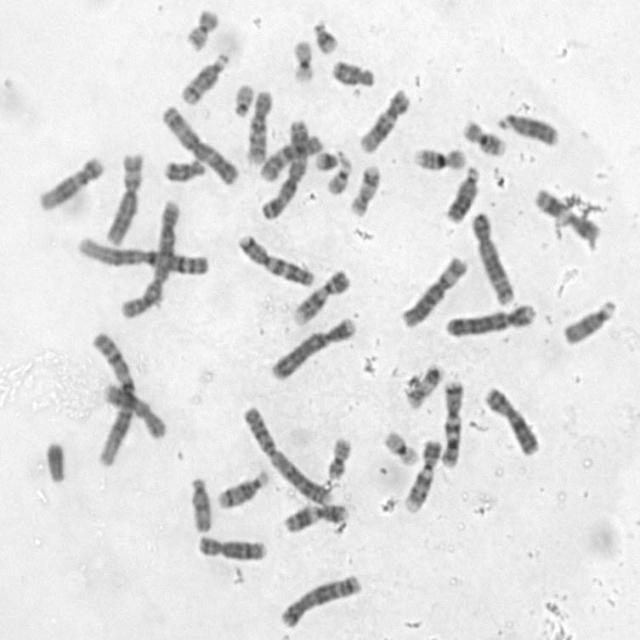A1: (89, 326, 140, 471), (73, 231, 213, 277)
A2: (239, 401, 335, 506), (115, 196, 182, 319)
A3: (158, 100, 242, 186), (258, 114, 314, 222)
B4: (266, 311, 359, 382), (441, 298, 539, 339)
B5: (276, 568, 365, 630), (468, 206, 518, 306)
C10: (255, 129, 325, 184), (242, 84, 276, 166)
C11: (530, 182, 602, 245), (280, 498, 350, 535)
C12: (33, 150, 106, 212), (356, 83, 412, 154)
C6: (397, 250, 470, 328), (102, 146, 147, 246)
C7: (234, 228, 318, 288), (437, 375, 466, 469)
C8: (105, 387, 168, 445), (194, 531, 269, 562)
C9: (290, 264, 352, 326), (400, 435, 444, 514)
D13: (494, 106, 562, 148), (442, 160, 481, 224)
D14: (176, 47, 231, 106), (214, 465, 271, 510)
D15: (559, 294, 619, 346), (186, 471, 215, 534)
E16: (459, 114, 508, 157), (410, 142, 468, 172)
E17: (402, 359, 445, 411), (345, 160, 382, 218)
E18: (328, 55, 378, 88), (160, 153, 207, 184)
F19: (379, 426, 422, 467), (288, 34, 317, 84)
F20: (182, 3, 221, 52), (323, 432, 354, 480)
G21: (309, 15, 341, 56), (311, 144, 342, 172)
G22: (323, 151, 354, 196), (230, 78, 256, 118)
X: (480, 381, 543, 458)
Y: (42, 436, 68, 484)
